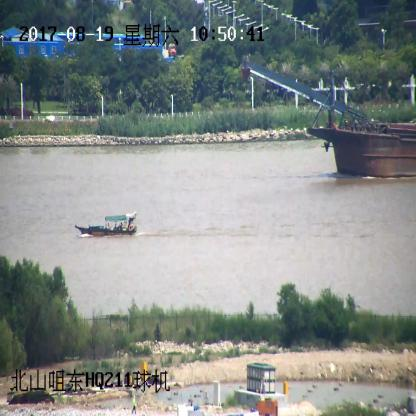Bulk Carrier: (244, 58, 416, 178)
